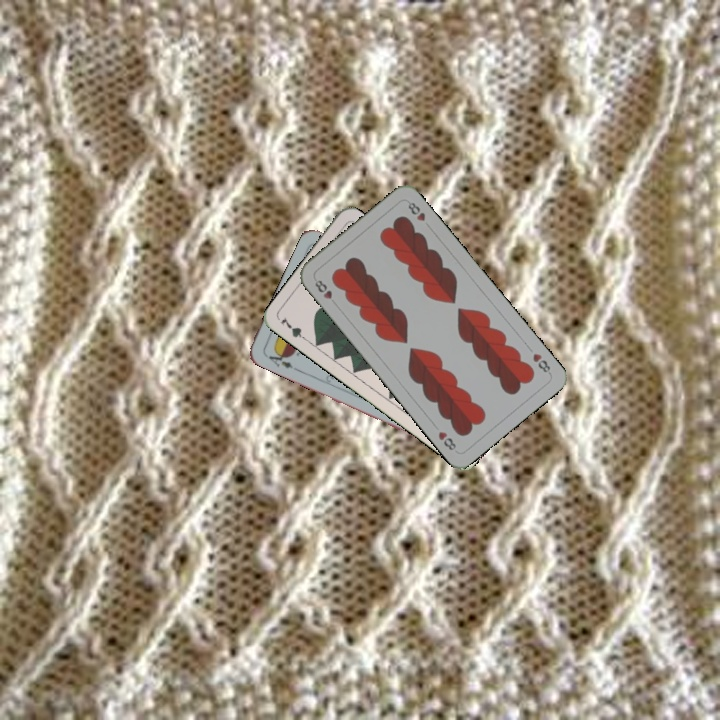EA: (265, 346, 300, 373)
G7: (276, 313, 311, 345)
H8: (528, 349, 554, 377), (311, 276, 335, 302)
